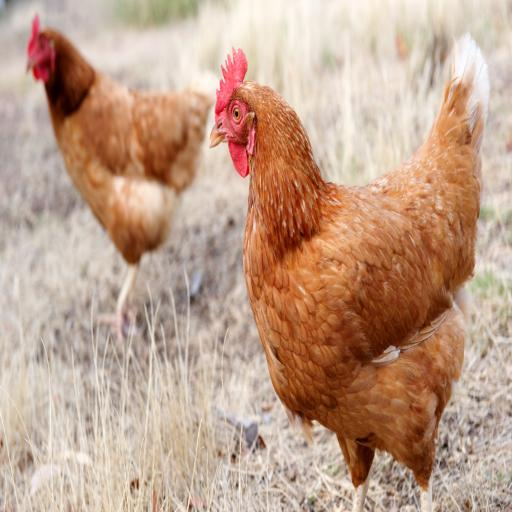healthy: (206, 52, 257, 173), (22, 7, 67, 90)
